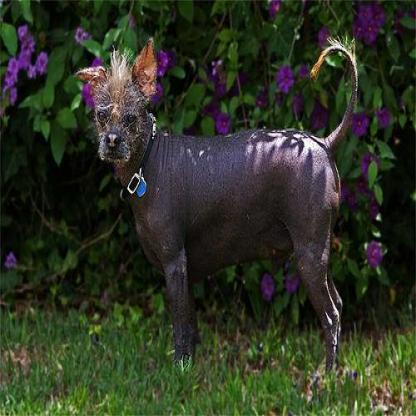Mexican_hairless: (75, 48, 357, 374)
